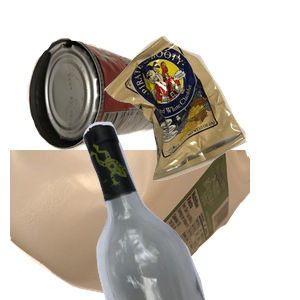glass: (81, 120, 300, 300)
metal: (25, 35, 189, 180)
plastic: (10, 150, 250, 300)
trash: (101, 33, 300, 206)
